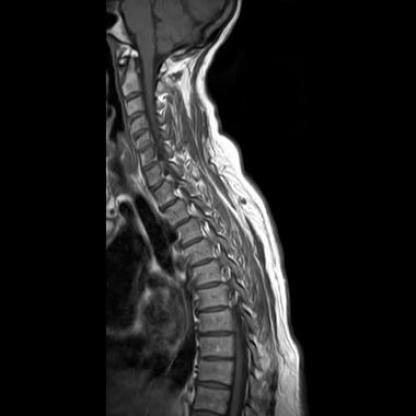Disc Bulgerotation: (137, 175, 178, 194)
